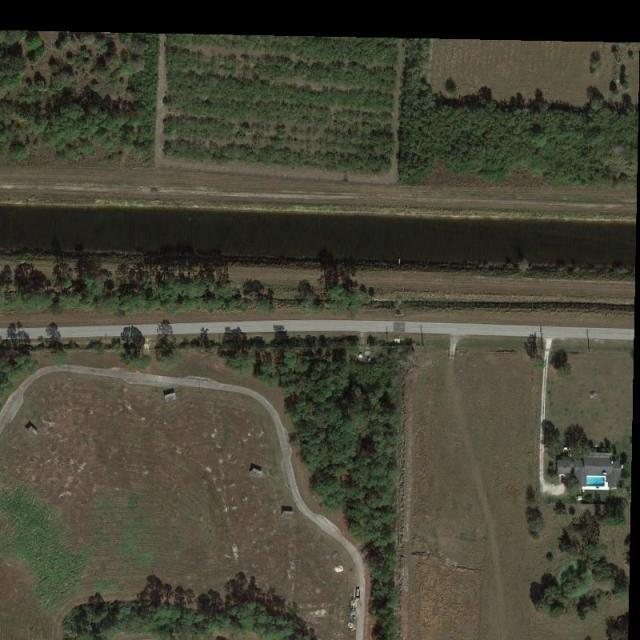vehicle: (563, 446, 574, 452)
